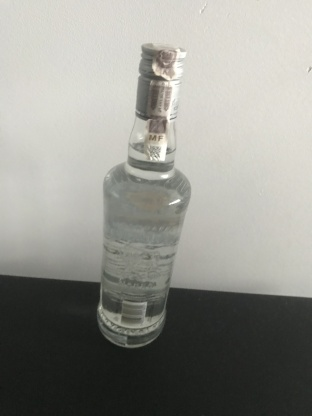nakretka: (133, 40, 187, 121)
